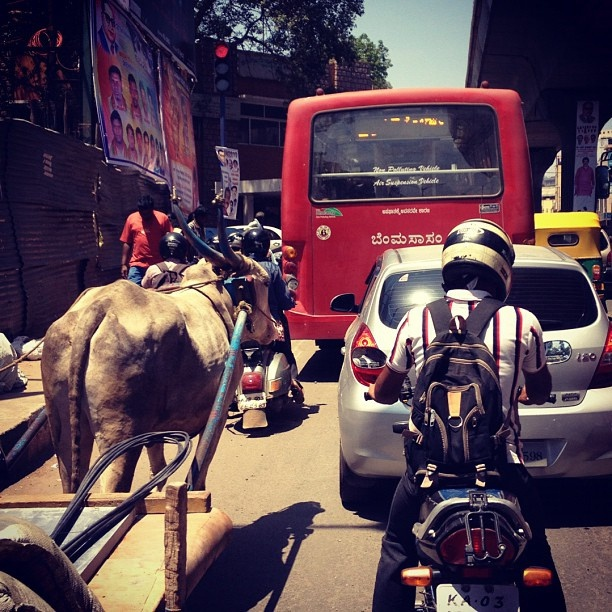non-vehicle: (350, 339, 572, 611), (233, 276, 300, 435)
